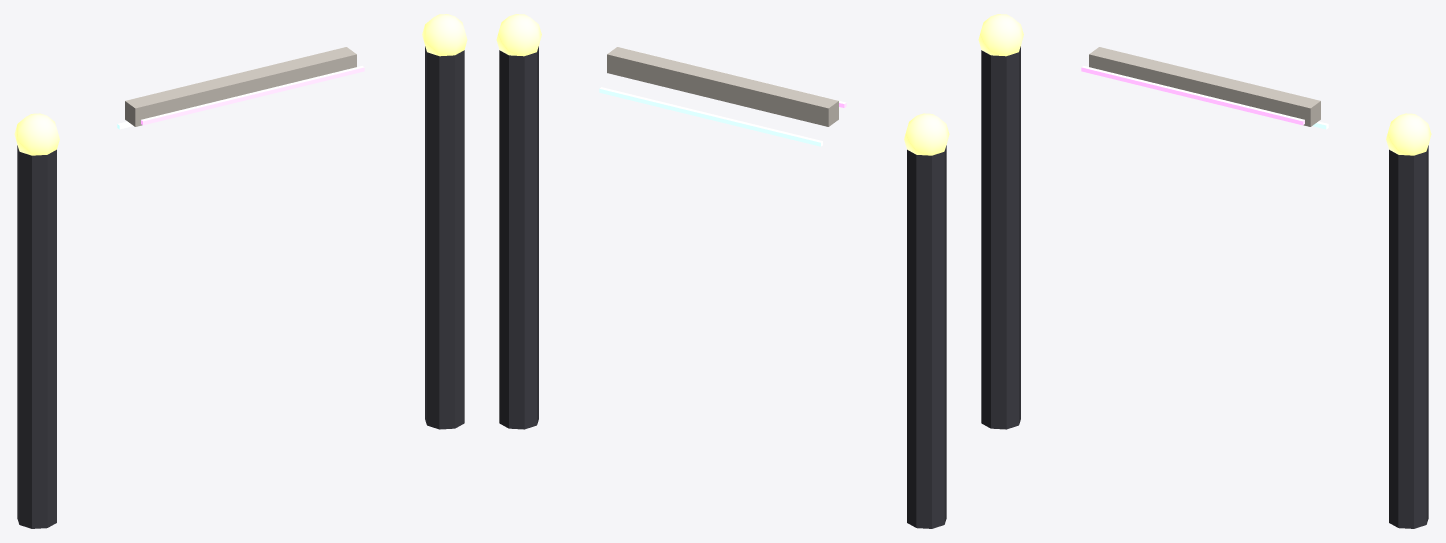
File: gate.glb
3 renders of one model, left to right at view 1: azimuth 30°, elevation 25°; view 2: azimuth 150°, elevation 25°; view 3: azimuth 330°, elevation 25°, orthographic.
Parts seen in each view (by area): view 1: post_l, post_r, top, bulb_l, bulb_r, neon; view 2: post_l, post_r, top, bulb_l, bulb_r, neon2; view 3: post_r, post_l, top, bulb_r, bulb_l, neon.
Boxes of the visible parts, x1,y1,x2,y2 form: post_l: (17,145,56,528); post_r: (425,46,464,429); top: (125,47,356,126); bulb_l: (14,113,59,155); bulb_r: (422,14,467,56); neon: (141,66,364,125); post_l: (907,145,946,528); post_r: (499,46,538,429); top: (607,47,838,126); bulb_l: (904,113,949,155); bulb_r: (496,14,541,56); neon2: (599,87,822,146); post_r: (1389,145,1428,528); post_l: (981,46,1020,429); top: (1089,47,1320,126); bulb_r: (1386,113,1431,155); bulb_l: (978,14,1023,56); neon: (1081,66,1304,125).
Size of the model in its own units: 8.8 by 7.6 by 0.875.
